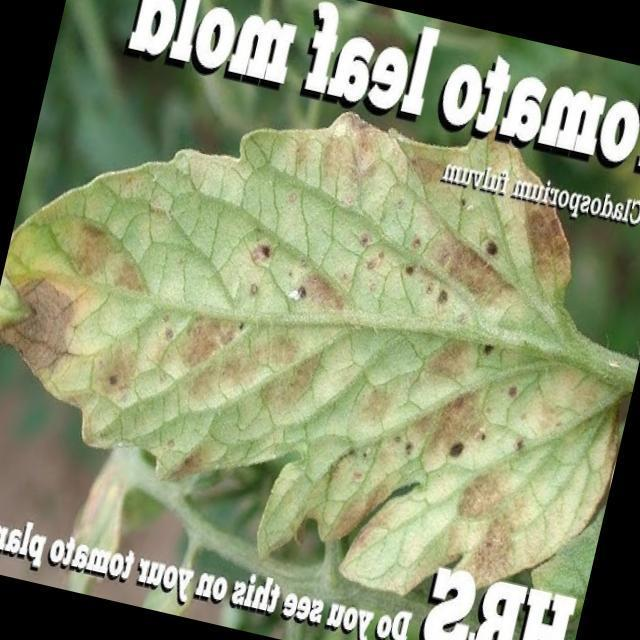Mosaic Virus: (0, 41, 640, 618)
